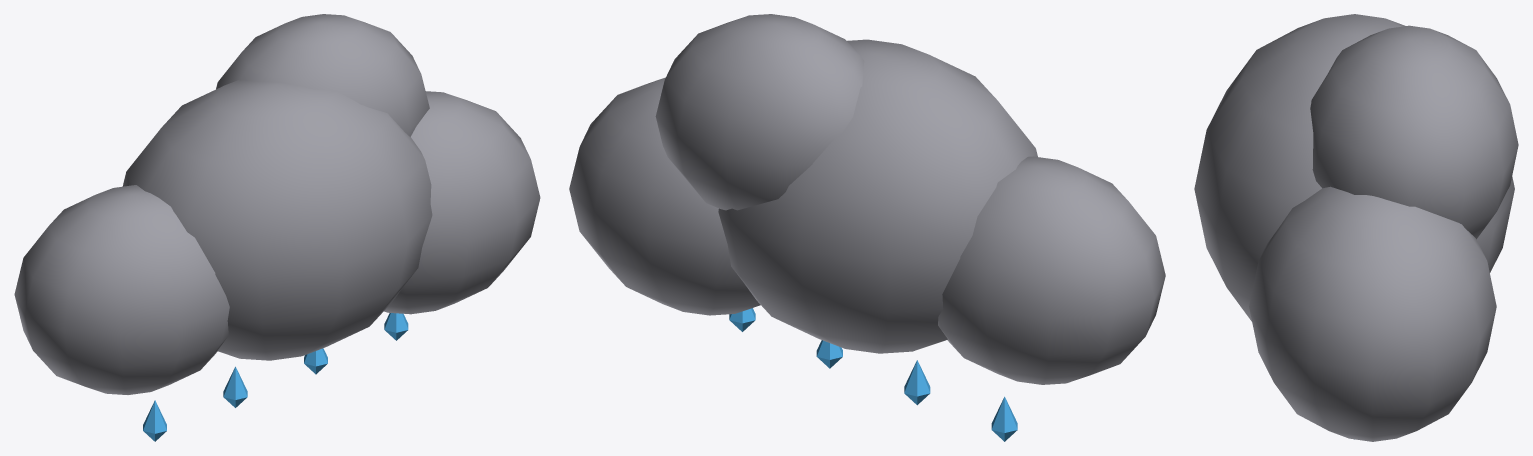
File: RainCloud.fbx
3 renders of one model, left to right at view 1: azimuth 30°, elevation 25°; view 2: azimuth 150°, elevation 25°; view 3: azimuth 270°, elevation 25°, orthographic. The views are drawn at different scales.
Parts seen in each view (by area): view 1: RainCloud; view 2: RainCloud; view 3: RainCloud.
Boxes of the visible parts, box(x1,y1,x2,y2) form: RainCloud: box(14, 14, 540, 441); RainCloud: box(569, 14, 1165, 441); RainCloud: box(1194, 14, 1518, 441).
Size of the model in its own units: 7.7 by 5.07 by 3.56.
1 material, 1 textured.
